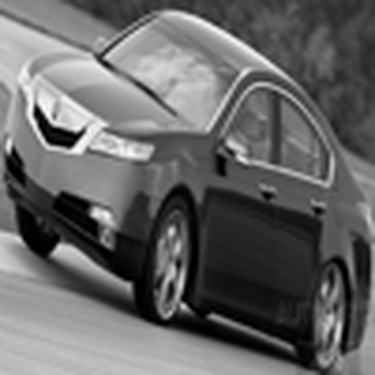car: (4, 10, 364, 362)
